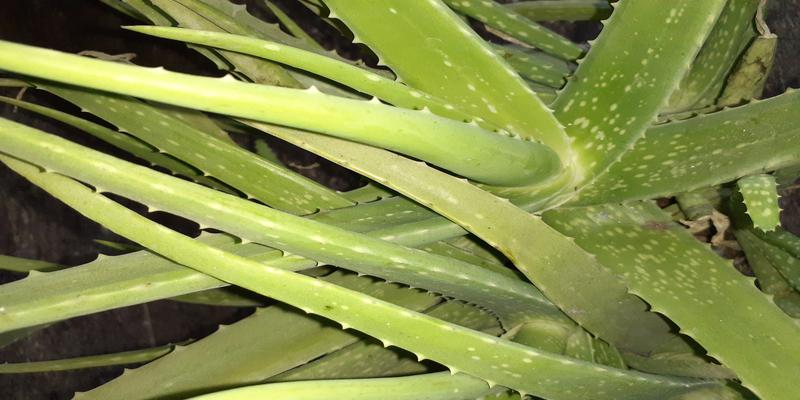Aloevera: (88, 23, 767, 367)
